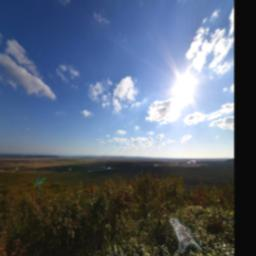Sparrow: (169, 217, 202, 254)
